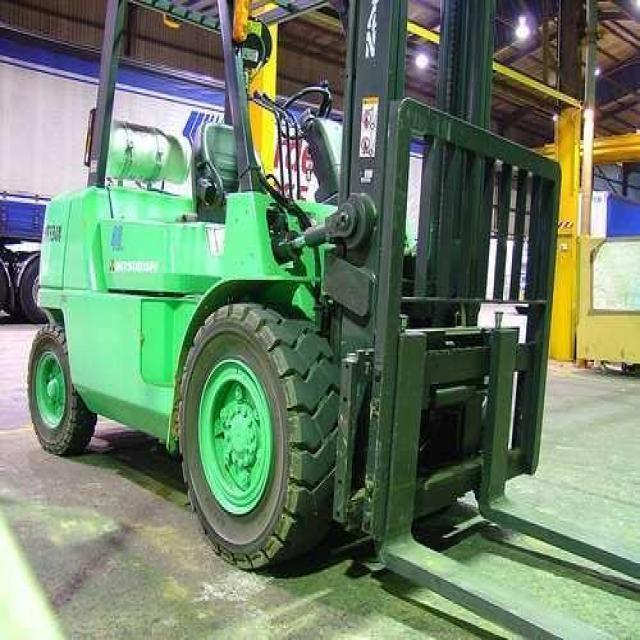forklift: (27, 0, 562, 575)
